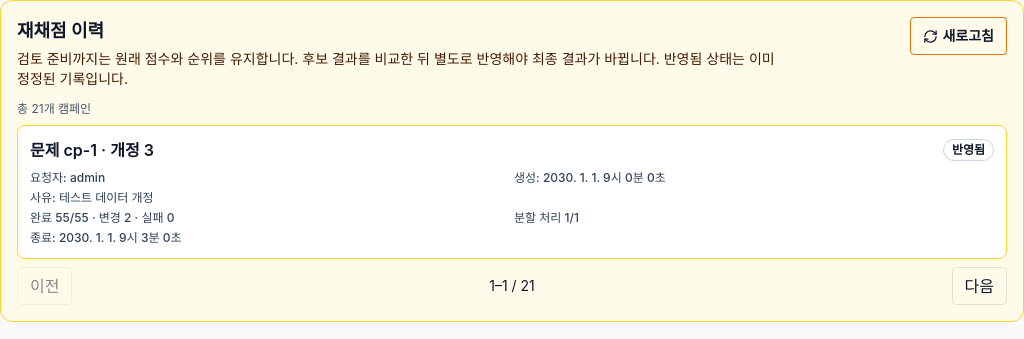
Test: ContestRejudgeHistory › paginates bounded batch summaries and displays applied batches without controls
Expected: the button "문제 cp-1" is shown, [17, 125, 1007, 259]
Expected: the text "반영됨" is shown, [943, 139, 994, 161]
Click the button "다음" at (979, 286), box [952, 267, 1007, 305]
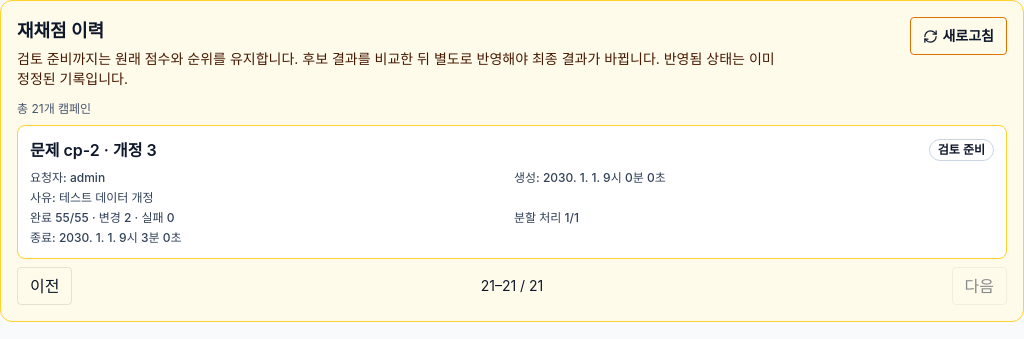
Expected: the button "문제 cp-2" is shown, [17, 125, 1007, 259]
Expected: the text "21–21 / 21" is shown, [481, 276, 543, 296]
